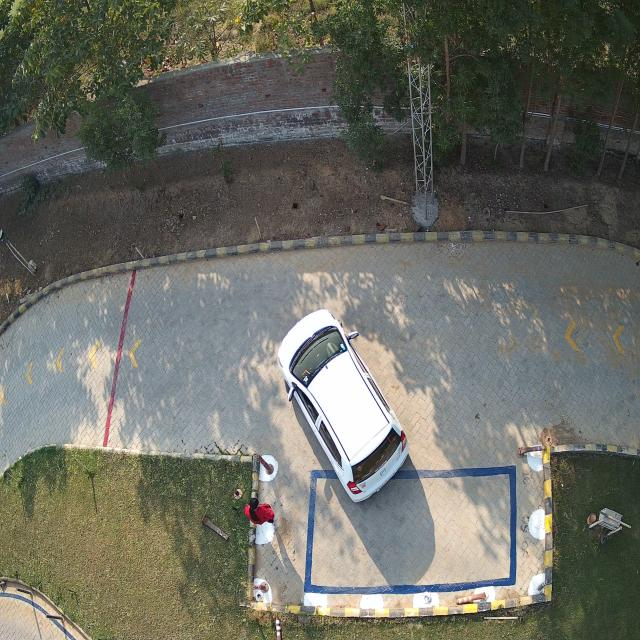car: (277, 308, 410, 504)
